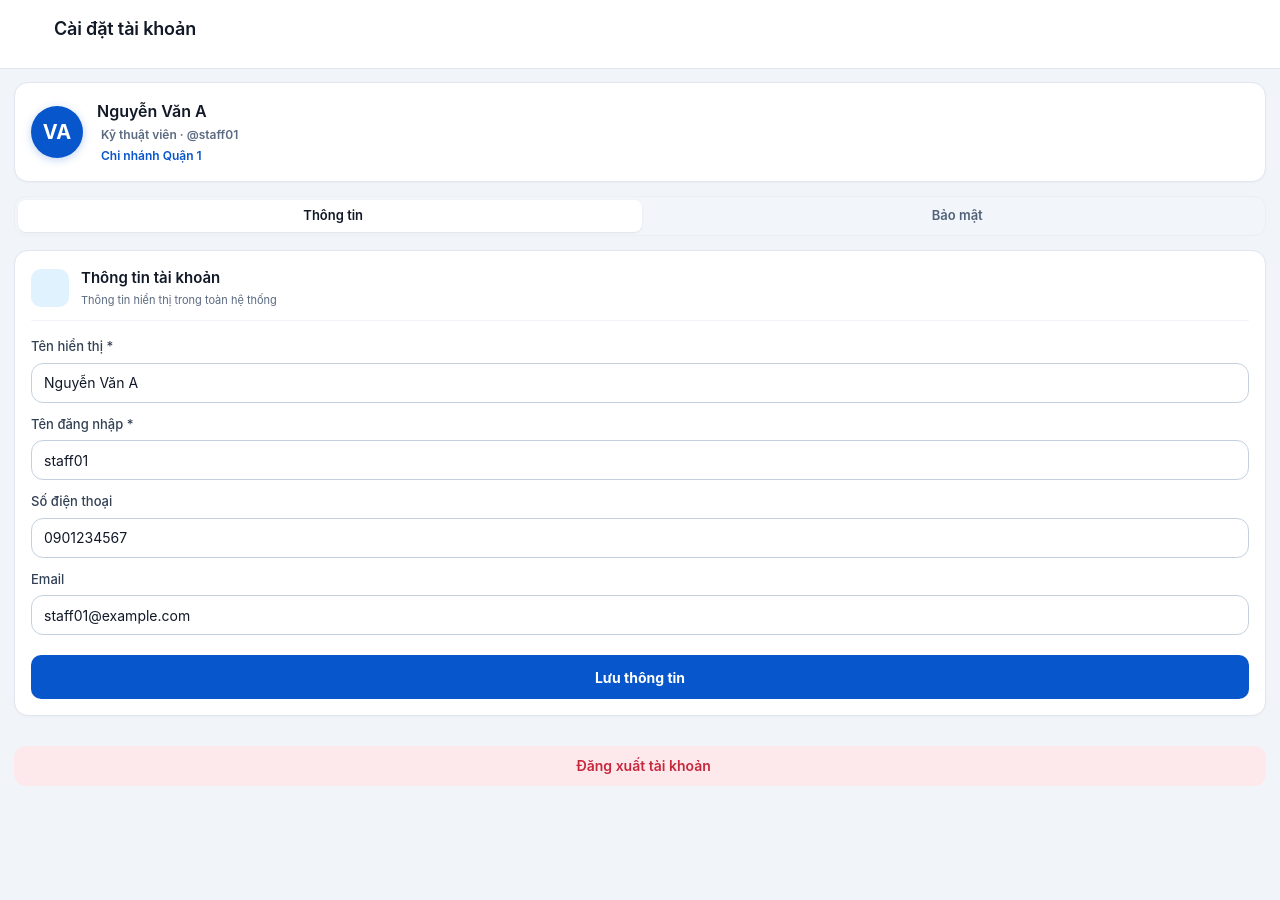
Scenario: MobileAccountView › renders profile tab and user info for cashier/staff role
This screenshot has width=1280, height=900.
expect the heading "Cài đặt tài khoản" is shown: met, box [54, 18, 196, 38]
expect the heading "Thông tin tài khoản" is shown: met, box [81, 268, 220, 287]
Click the tab "Bảo mật" at coordinates (954, 216), box [646, 200, 1262, 232]
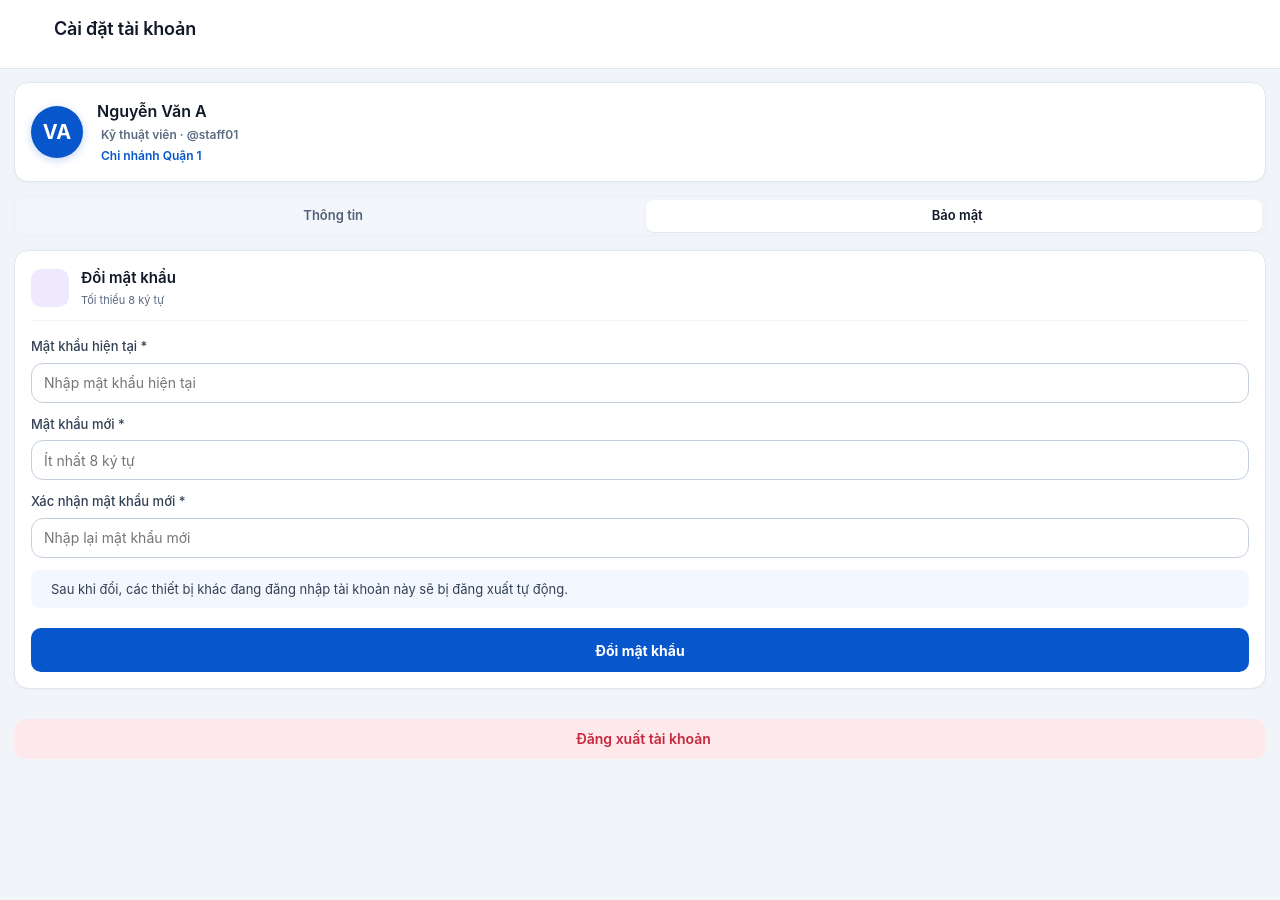
expect the heading "Đổi mật khẩu" is shown: met, box [81, 267, 176, 290]
expect the button "Đổi mật khẩu" is shown: met, box [31, 628, 1249, 672]
